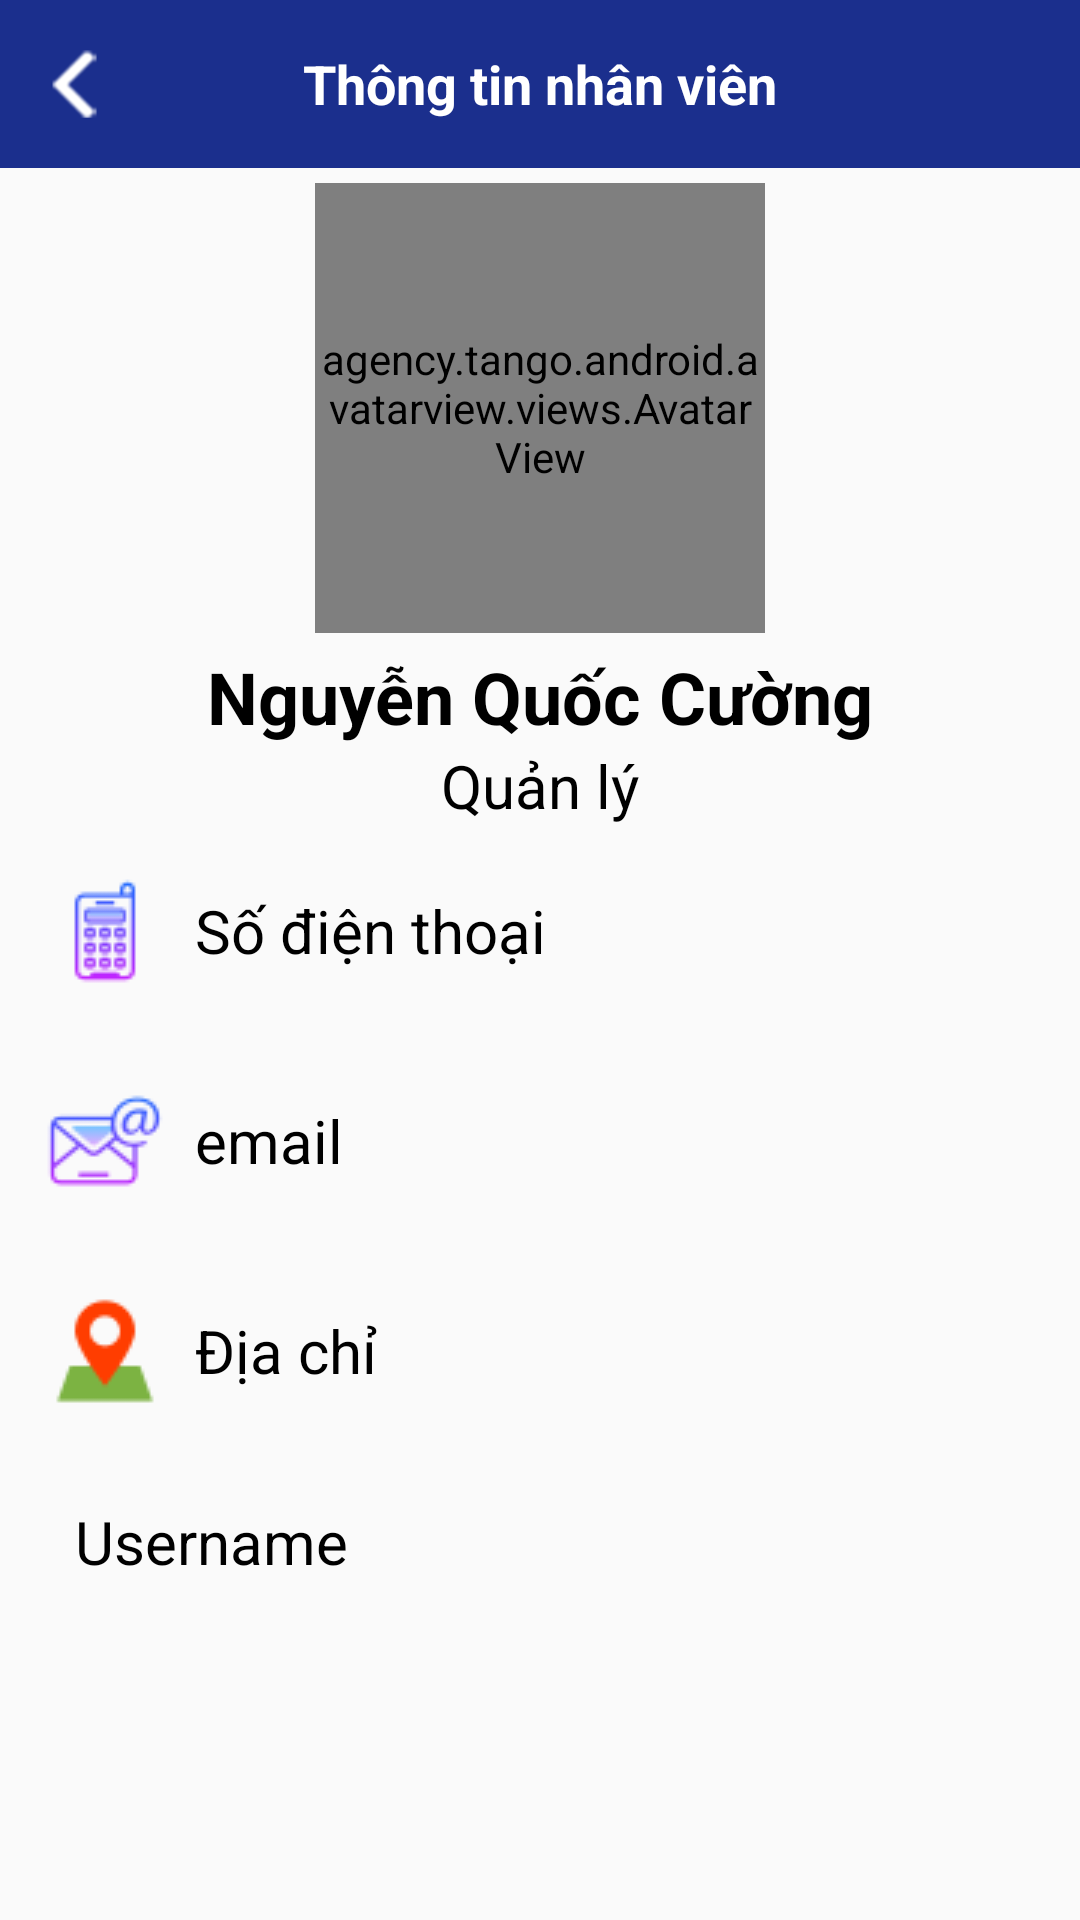

Where to tap for icons on this 1080 x 1920 app screen, as [x,y]:
address: [105,1351]
arrow left: [74,84]
phone: [105,931]
